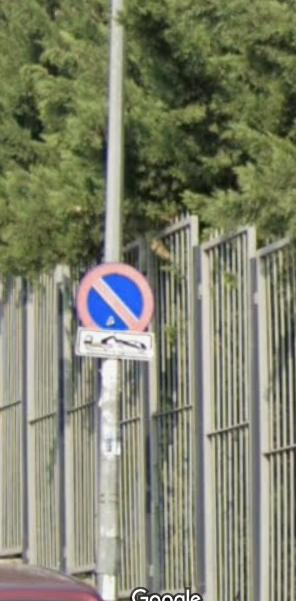nopark: (79, 264, 152, 333)
